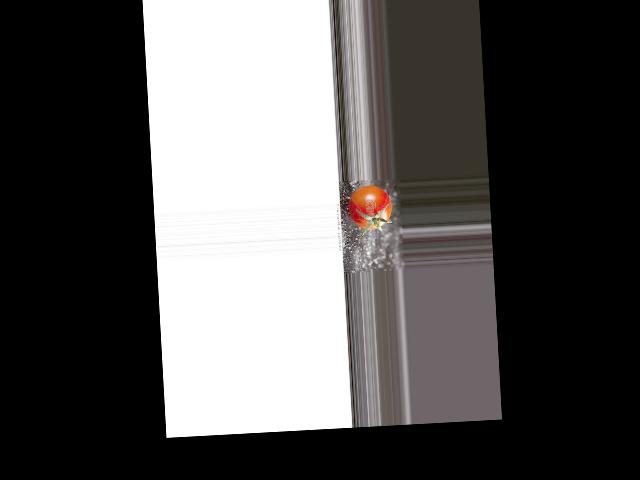tomato: (348, 184, 392, 230)
